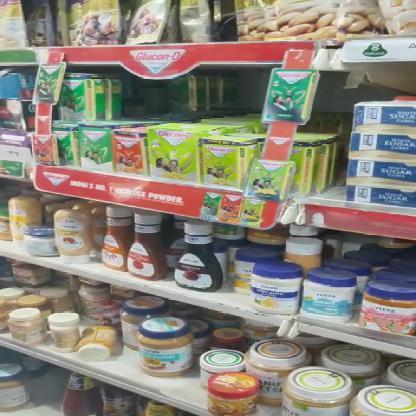Glucon D Nimbu Pani 1-KG: (146, 127, 198, 182), (200, 136, 244, 184)
Glucon D Regular 1-KG: (78, 128, 111, 169)
Glucon D Tangy orange 1-KG: (111, 130, 146, 173)
